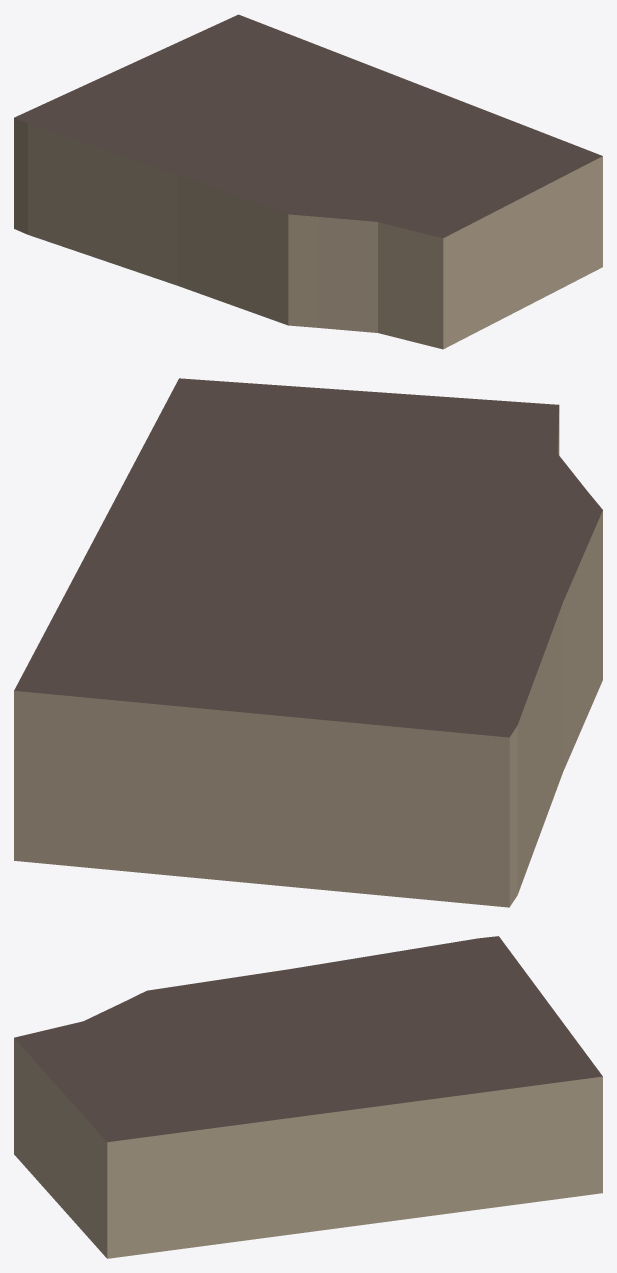
The picture shows the model from 3 angles, top to bottom: view 1: azimuth 30°, elevation 25°; view 2: azimuth 150°, elevation 25°; view 3: azimuth 270°, elevation 25°; orthographic projection. The views are drawn at different scales.
Parts seen in each view (by area): view 1: HP-w756801872; view 2: HP-w756801872; view 3: HP-w756801872.
Boxes of the visible parts, x1,y1,x2,y2 form: HP-w756801872: [14, 14, 602, 349]; HP-w756801872: [14, 378, 602, 907]; HP-w756801872: [14, 936, 602, 1258].
Bounding box in the file's own units: 34.11 × 9 × 41.19.
